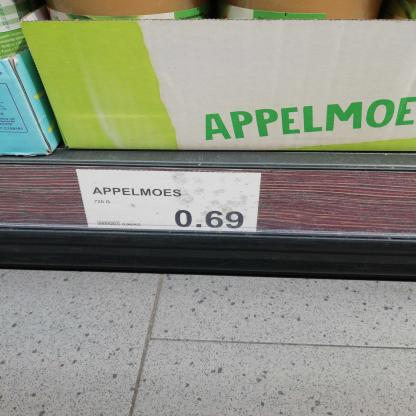prtg: (78, 171, 262, 232)
